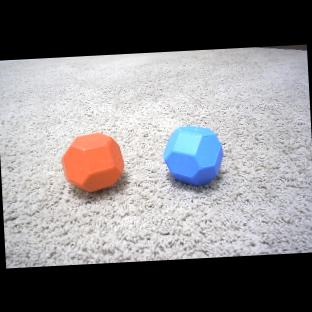V5_RED: (61, 130, 125, 195)
